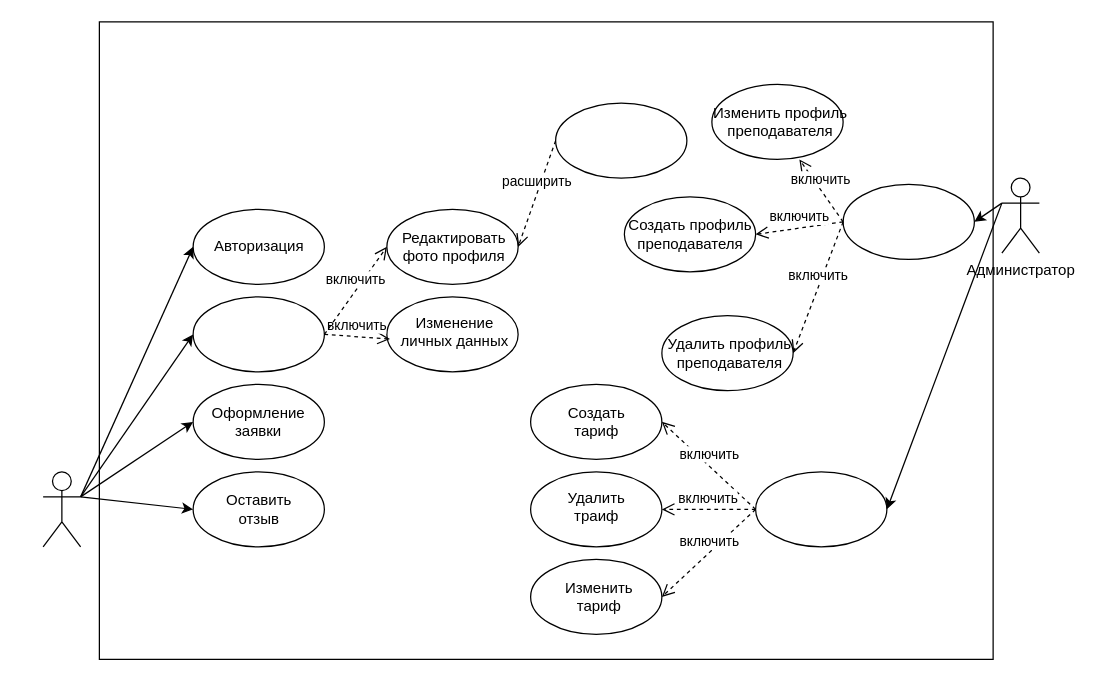
Some shapes in this 1096 by 681 pixel diagram are drawn without their labels. The centre of each missing label's shape, as x and y in pixels:
Добавить фото: (620,140)
Посетитель: (61,509)
Управление преподавателями: (908,221)
Управление профилем: (258,334)
Управление тарифами: (820,509)
